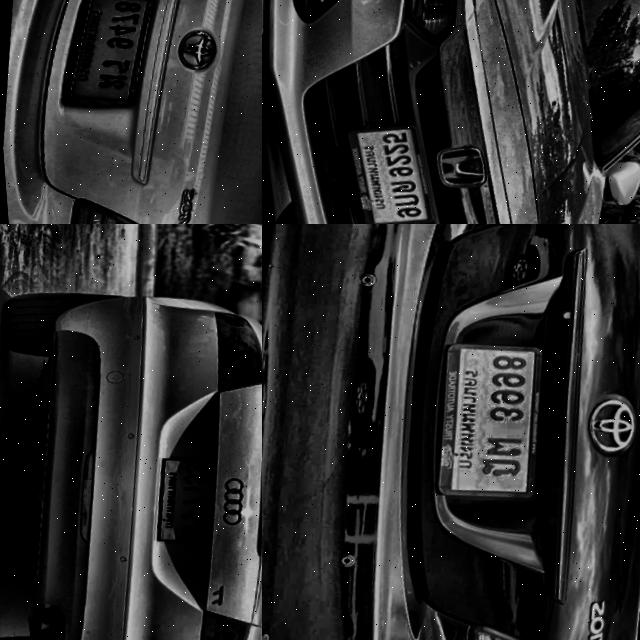license-plate: (416, 338, 554, 517), (313, 113, 449, 224), (46, 0, 163, 120), (141, 456, 216, 556)
